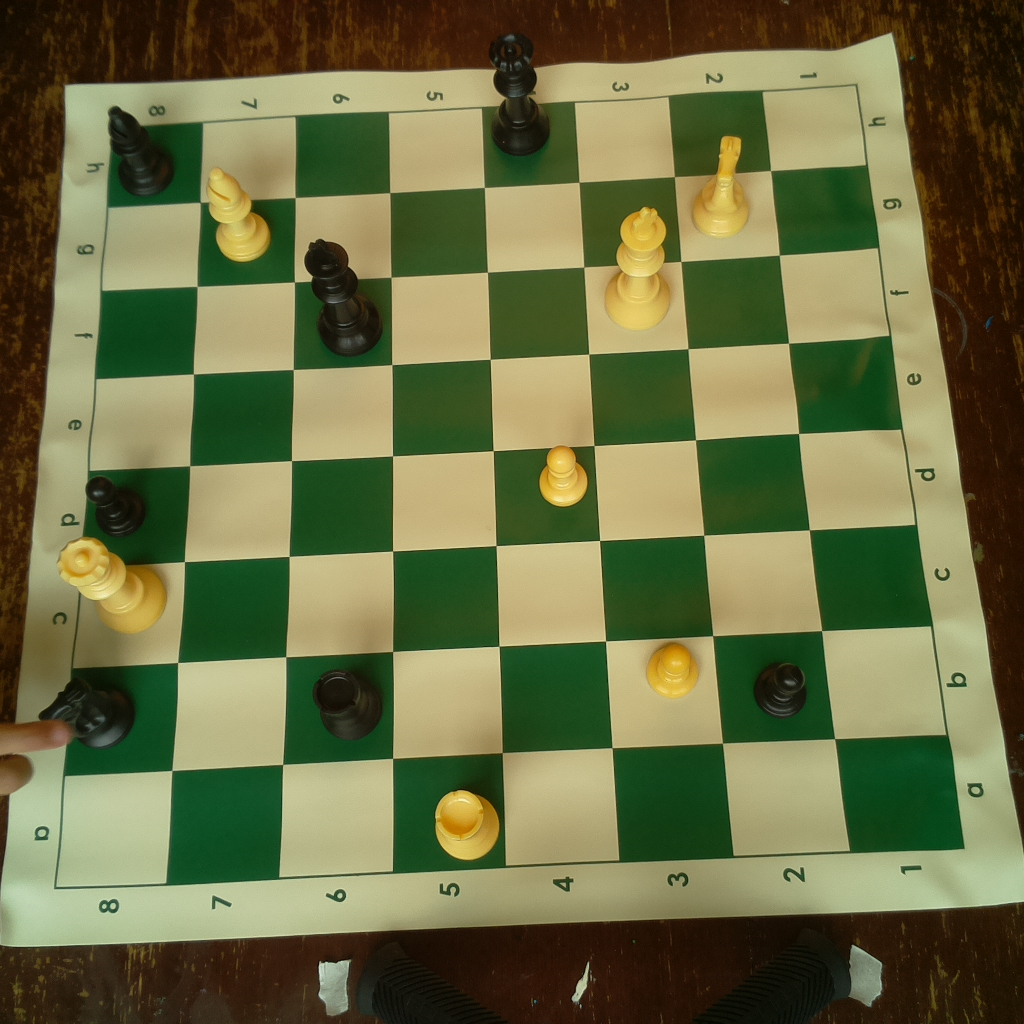black_bishop: (105, 100, 175, 196)
black_king: (302, 236, 385, 360)
black_knight: (32, 670, 141, 747)
black_pawn: (749, 654, 812, 726), (83, 474, 150, 538)
black_queen: (485, 31, 554, 157)
black_rook: (308, 664, 388, 744)
file_a: (53, 736, 967, 891)
file_b: (62, 627, 950, 774)
file_c: (70, 526, 934, 669)
file_d: (81, 428, 918, 569)
file_e: (89, 335, 901, 470)
file_f: (94, 248, 890, 379)
file_g: (98, 164, 877, 293)
file_h: (106, 84, 871, 209)
outline: (57, 84, 967, 890)
rank_1: (766, 83, 963, 854)
rank_2: (668, 90, 853, 854)
rank_3: (573, 97, 733, 861)
rank_4: (483, 101, 621, 865)
rank_5: (389, 105, 510, 871)
rank_6: (279, 114, 392, 878)
rank_7: (164, 114, 293, 890)
rank_8: (54, 123, 203, 892)
white_bishop: (201, 167, 273, 262)
white_king: (605, 200, 673, 330)
white_knight: (689, 132, 754, 241)
white_pawn: (532, 440, 594, 513), (647, 630, 703, 701)
white_queen: (53, 527, 170, 635)
white_rook: (433, 784, 507, 864)
